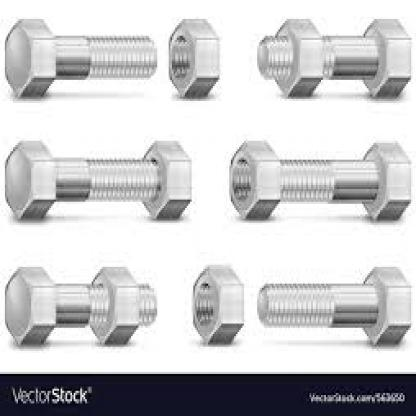METAL: (3, 139, 158, 221), (256, 266, 410, 346), (3, 264, 156, 344), (3, 16, 154, 96), (259, 19, 409, 97), (277, 138, 409, 223), (190, 262, 244, 342), (167, 19, 220, 97), (230, 139, 278, 221), (88, 264, 136, 344), (141, 138, 188, 218), (275, 16, 321, 96)
